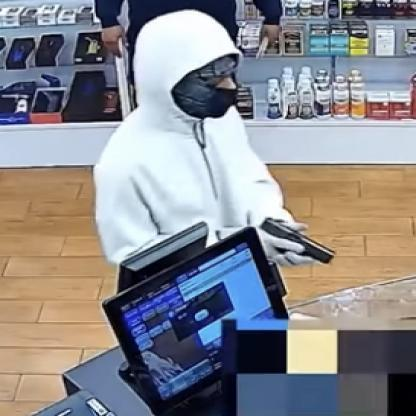criminal: (92, 9, 337, 270)
weapon: (260, 216, 337, 264)
